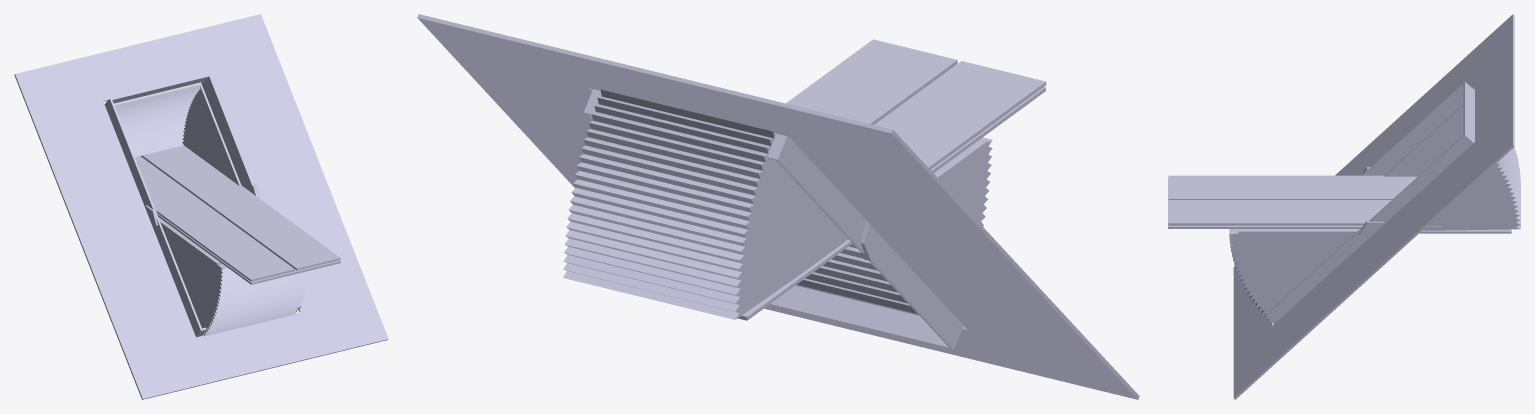
Rendered from RD_Plat15in.glb.
3 renders of one model, left to right at view 1: azimuth 30°, elevation 25°; view 2: azimuth 150°, elevation 25°; view 3: azimuth 270°, elevation 25°, orthographic. The views are drawn at different scales.
Visible parts, largest first — view 1: copy_Body021, copy_LinkGroup004, copy_Body023, copy_Body022, copy_Body016, copy_Body, copy_Body017, copy_LinkGroup003; view 2: copy_Body021, copy_Body022, copy_LinkGroup004, copy_Body, copy_Body023, copy_Body017, copy_Body016, copy_LinkGroup003, copy_Body002; view 3: copy_Body021, copy_LinkGroup004, copy_Body022, copy_Body, copy_Body023, copy_Body016, copy_Body017, copy_LinkGroup003.
Boxes of the visible parts, left/top/right/bottom form: copy_Body021: left=14, top=14, right=388, bottom=399; copy_LinkGroup004: left=145, top=169, right=340, bottom=284; copy_Body023: left=161, top=225, right=310, bottom=336; copy_Body022: left=114, top=82, right=241, bottom=185; copy_Body016: left=141, top=145, right=308, bottom=246; copy_Body: left=104, top=74, right=301, bottom=337; copy_Body017: left=135, top=156, right=262, bottom=253; copy_LinkGroup003: left=158, top=217, right=222, bottom=265; copy_Body021: left=417, top=14, right=1139, bottom=399; copy_Body022: left=563, top=89, right=848, bottom=319; copy_LinkGroup004: left=792, top=39, right=1046, bottom=173; copy_Body: left=584, top=89, right=963, bottom=349; copy_Body023: left=795, top=137, right=992, bottom=315; copy_Body017: left=875, top=107, right=983, bottom=169; copy_Body016: left=786, top=85, right=893, bottom=123; copy_LinkGroup003: left=738, top=139, right=987, bottom=320; copy_Body002: left=860, top=221, right=887, bottom=260; copy_Body021: left=1233, top=14, right=1514, bottom=399; copy_LinkGroup004: left=1168, top=175, right=1440, bottom=228; copy_Body022: left=1384, top=104, right=1520, bottom=230; copy_Body: left=1265, top=81, right=1474, bottom=323; copy_Body023: left=1229, top=229, right=1354, bottom=321; copy_Body016: left=1238, top=200, right=1510, bottom=225; copy_Body017: left=1238, top=175, right=1417, bottom=195; copy_LinkGroup003: left=1238, top=229, right=1511, bottom=233.
Size of the model in its own units: 1.68 by 1.52 by 1.9.
